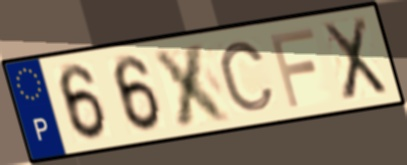6: (55, 61, 110, 144), (110, 52, 165, 135)
C: (216, 39, 277, 114)
F: (266, 24, 318, 110)
X: (148, 39, 236, 130), (318, 14, 391, 105)
